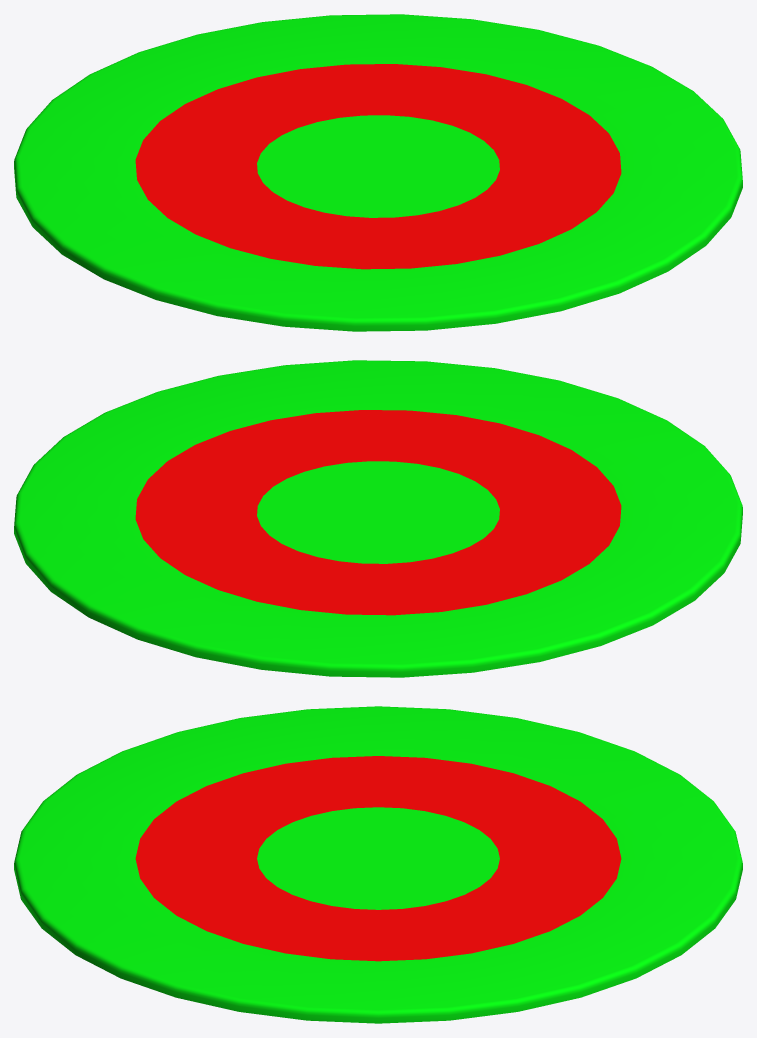
Rendered from Tapis 1.FBX.
3 renders of one model, top to bottom at view 1: azimuth 30°, elevation 25°; view 2: azimuth 150°, elevation 25°; view 3: azimuth 270°, elevation 25°, orthographic.
Parts seen in each view (by area): view 1: Tapis 002; view 2: Tapis 002; view 3: Tapis 002.
Part boxes in pixels (box(x1,y1,x2,y2)): Tapis 002: box(14, 14, 742, 331); Tapis 002: box(14, 360, 742, 677); Tapis 002: box(14, 706, 742, 1023).
Size of the model in its own units: 180 by 3 by 180.
